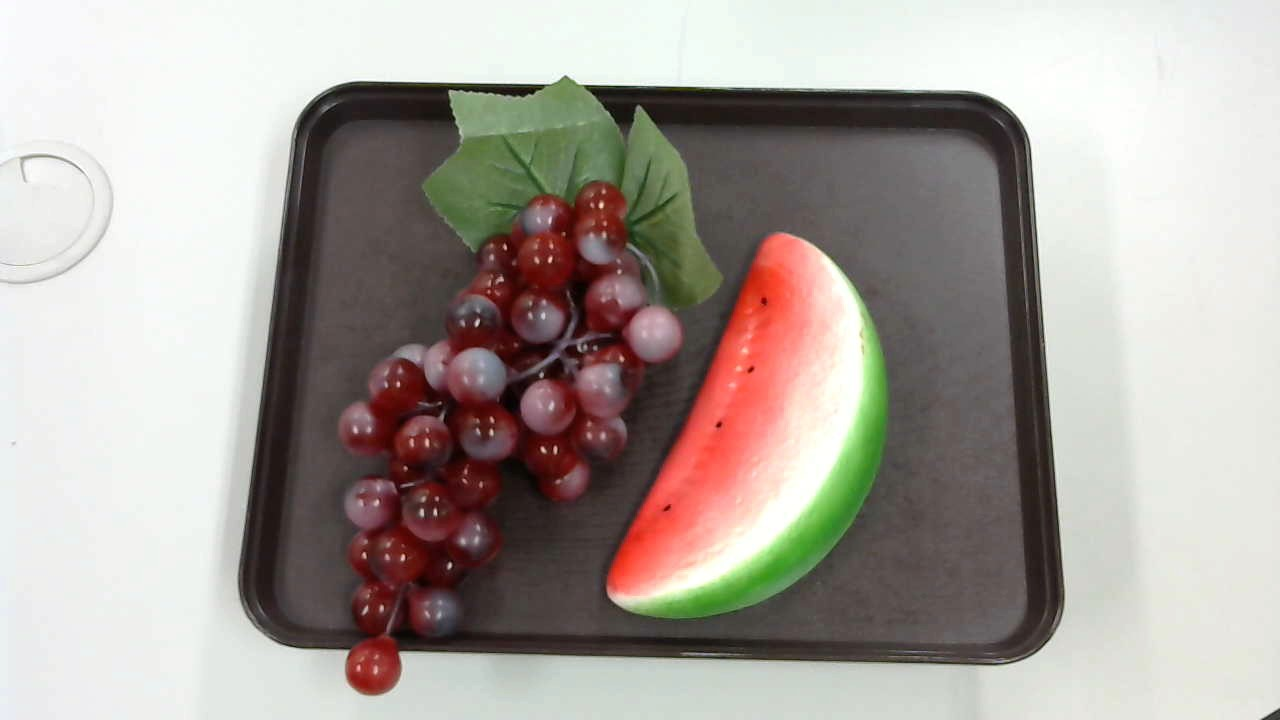grape: (312, 64, 722, 705)
water melon: (605, 225, 890, 617)
